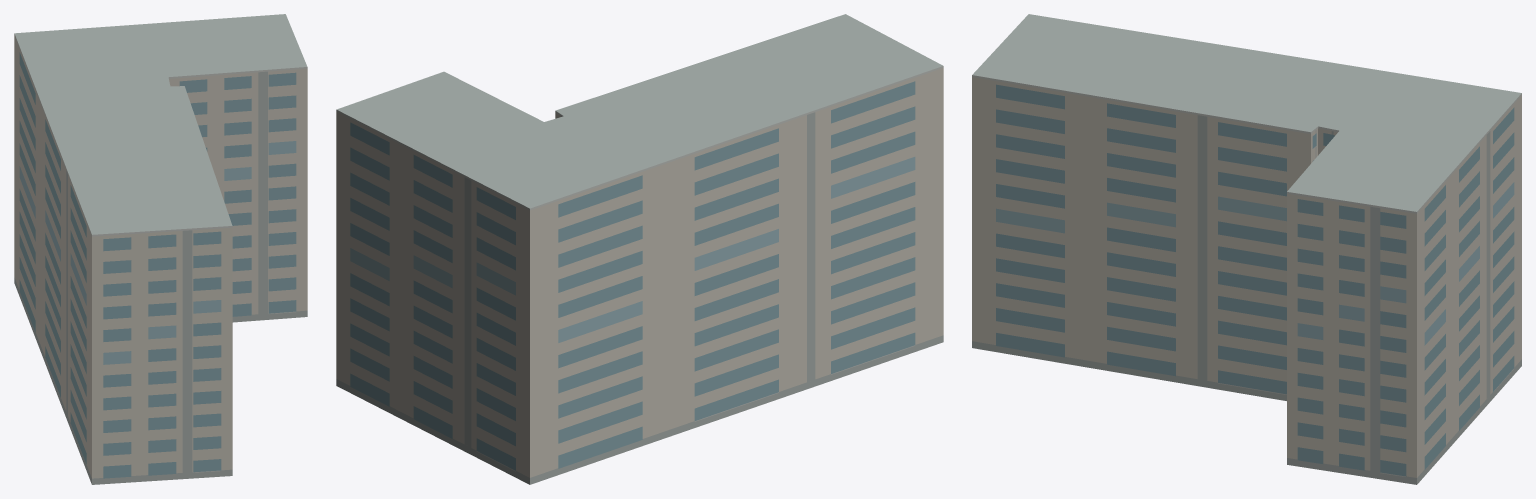
File: residential-30792ffa-c5a4-4d93-be55-d5aa4c8fb0f8.glb
The picture shows the model from 3 angles, left to right: view 1: azimuth 30°, elevation 25°; view 2: azimuth 150°, elevation 25°; view 3: azimuth 270°, elevation 25°; orthographic projection. The views are drawn at different scales.
Visible parts, largest first — view 1: residential-30792ffa-c5a4-4d93-be55-d5aa4c8fb0f8.tmp; view 2: residential-30792ffa-c5a4-4d93-be55-d5aa4c8fb0f8.tmp; view 3: residential-30792ffa-c5a4-4d93-be55-d5aa4c8fb0f8.tmp.
Boxes of the visible parts, bbox=[...] form: residential-30792ffa-c5a4-4d93-be55-d5aa4c8fb0f8.tmp: bbox=[14, 14, 307, 484]; residential-30792ffa-c5a4-4d93-be55-d5aa4c8fb0f8.tmp: bbox=[336, 14, 943, 484]; residential-30792ffa-c5a4-4d93-be55-d5aa4c8fb0f8.tmp: bbox=[972, 14, 1521, 484].
Size of the model in its own units: 52.88 by 34 by 62.07.
